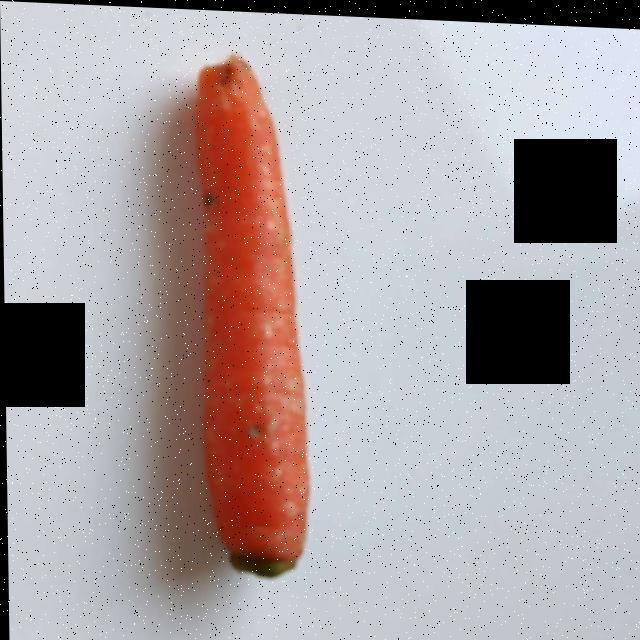carrot: (192, 69, 302, 566)
